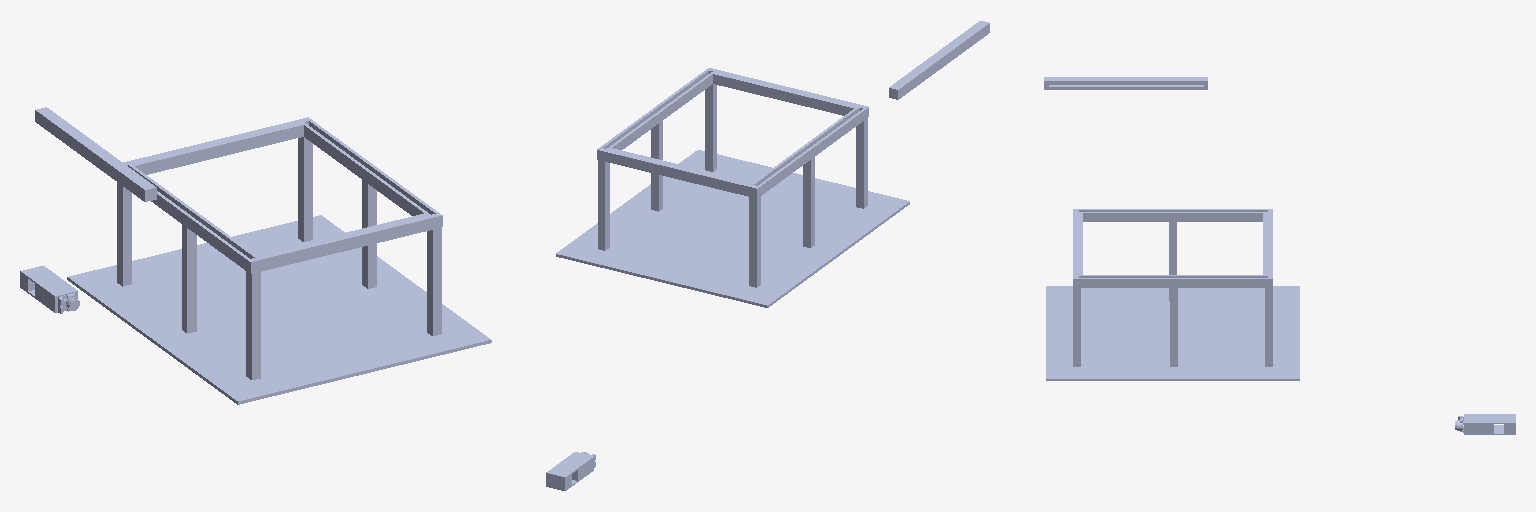
URDF robot description (test7):
<?xml version="1.0" encoding="utf-8"?>
<!-- This URDF was automatically created by SolidWorks to URDF Exporter! Originally created by [author] ([email redacted]) 
     Commit Version: 1.6.0-4-g7f85cfe  Build Version: 1.6.7995.38578
     For more information, please see http://wiki.ros.org/sw_urdf_exporter -->
<robot
  name="test7">
  <link
    name="structure">
    <inertial>
      <origin
        xyz="-0.00035476 1.1281 0.0030492"
        rpy="0 0 0" />
      <mass
        value="12293" />
      <inertia
        ixx="64316"
        ixy="1.8079E-13"
        ixz="-9.9719E-12"
        iyy="107060"
        iyz="-0.050219"
        izz="45881" />
    </inertial>
    <visual>
      <origin
        xyz="0 0 0"
        rpy="0 0 0" />
      <geometry>
        <mesh
          filename="package://test7/meshes/structure.STL" />
      </geometry>
      <material
        name="">
        <color
          rgba="0.79216 0.81961 0.93333 1" />
      </material>
    </visual>
    <collision>
      <origin
        xyz="0 0 0"
        rpy="0 0 0" />
      <geometry>
        <mesh
          filename="package://test7/meshes/structure.STL" />
      </geometry>
    </collision>
  </link>
  <link
    name="x_rail">
    <inertial>
      <origin
        xyz="-0.184 0.17153 3.0187"
        rpy="0 0 0" />
      <mass
        value="740.03" />
      <inertia
        ixx="2278.6"
        ixy="8.2654E-12"
        ixz="1.0694E-13"
        iyy="2279.9"
        iyz="0.002039"
        izz="17.062" />
    </inertial>
    <visual>
      <origin
        xyz="0 0 0"
        rpy="0 0 0" />
      <geometry>
        <mesh
          filename="package://test7/meshes/x_rail.STL" />
      </geometry>
      <material
        name="">
        <color
          rgba="0.79216 0.81961 0.93333 1" />
      </material>
    </visual>
    <collision>
      <origin
        xyz="0 0 0"
        rpy="0 0 0" />
      <geometry>
        <mesh
          filename="package://test7/meshes/x_rail.STL" />
      </geometry>
    </collision>
  </link>
  <joint
    name="joint_1"
    type="prismatic">
    <origin
      xyz="-2.9895 0.0447 3.7013"
      rpy="1.5708 0 1.5708" />
    <parent
      link="structure" />
    <child
      link="x_rail" />
    <axis
      xyz="1 0 0" />
    <limit
      lower="0"
      upper="0"
      effort="0"
      velocity="0" />
  </joint>
  <link
    name="carriage">
    <inertial>
      <origin
        xyz="0.36884 7.271 17.038"
        rpy="0 0 0" />
      <mass
        value="645.33" />
      <inertia
        ixx="213.99"
        ixy="0.12239"
        ixz="-0.00078074"
        iyy="42.439"
        iyz="-0.0004033"
        izz="227.81" />
    </inertial>
    <visual>
      <origin
        xyz="0 0 0"
        rpy="0 0 0" />
      <geometry>
        <mesh
          filename="package://test7/meshes/carriage.STL" />
      </geometry>
      <material
        name="">
        <color
          rgba="0.79216 0.81961 0.93333 1" />
      </material>
    </visual>
    <collision>
      <origin
        xyz="0 0 0"
        rpy="0 0 0" />
      <geometry>
        <mesh
          filename="package://test7/meshes/carriage.STL" />
      </geometry>
    </collision>
  </link>
  <joint
    name="joint_2"
    type="prismatic">
    <origin
      xyz="16.87 -7.5966 3.1202"
      rpy="3.1416 -1.5708 0" />
    <parent
      link="x_rail" />
    <child
      link="carriage" />
    <axis
      xyz="1 0 0" />
    <limit
      lower="0"
      upper="0"
      effort="0"
      velocity="0" />
  </joint>
</robot>

--- Facts derived from the render (not from the file) ---
The picture shows the robot from 3 angles, left to right: view 1: azimuth 30°, elevation 25°; view 2: azimuth 150°, elevation 25°; view 3: azimuth 270°, elevation 25°; orthographic projection.
Robot: test7 — 3 links, 2 joints (2 prismatic); root link structure; default pose: all joints at 0.
Links seen in each view (by area): view 1: structure, x_rail, carriage; view 2: structure, x_rail, carriage; view 3: structure, x_rail, carriage.
Boxes of the visible links, left/top/right/bottom form: structure: left=67, top=117, right=491, bottom=404; x_rail: left=35, top=107, right=156, bottom=201; carriage: left=20, top=266, right=79, bottom=313; structure: left=556, top=68, right=909, bottom=307; x_rail: left=889, top=21, right=989, bottom=99; carriage: left=546, top=452, right=595, bottom=490; structure: left=1046, top=209, right=1299, bottom=380; x_rail: left=1044, top=77, right=1207, bottom=89; carriage: left=1455, top=414, right=1515, bottom=434.
Bounding box of the posed robot: 11.05 × 17.4 × 11.41 m (x, y, z).
Meshes: 3 distinct files referenced, 3 mesh visuals loaded (3 binary STL).